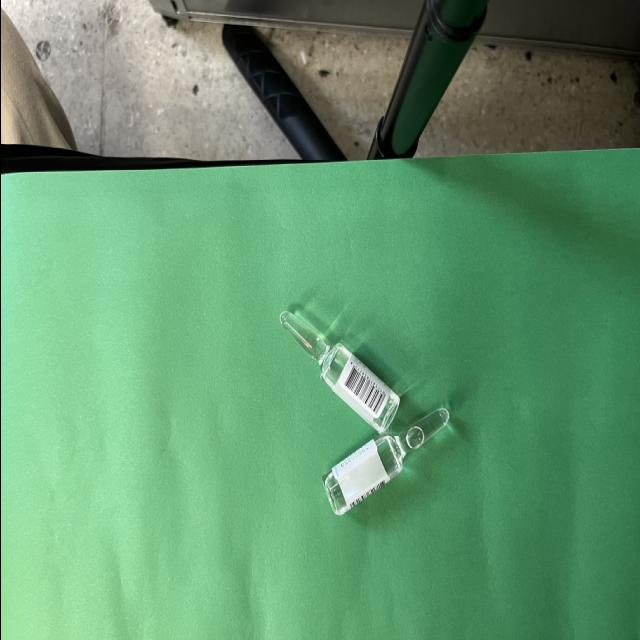Ampoules: (278, 311, 399, 433), (322, 408, 448, 515)
